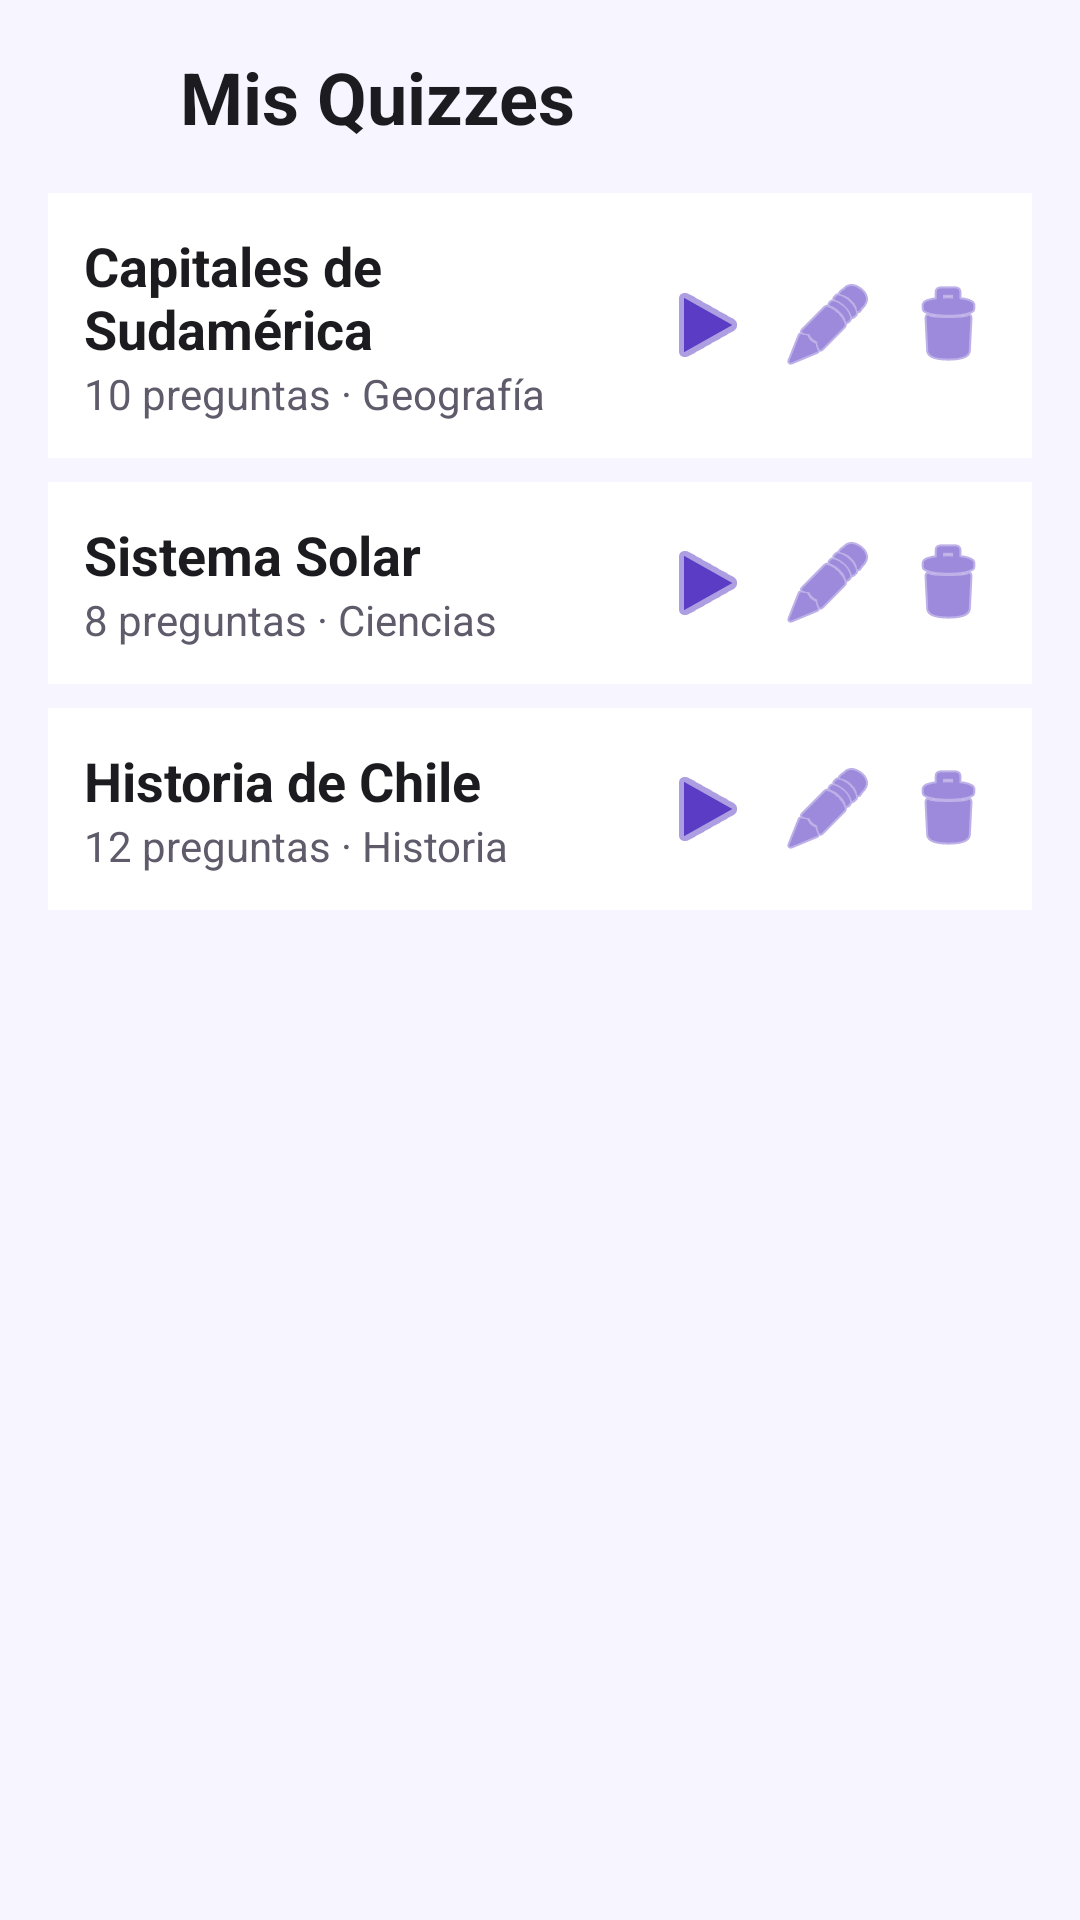

Where icons sit on this 1080px×1920px app screen, as (x1, y1, x2, y2):
Editar quiz: (787, 284, 868, 365), (787, 542, 868, 623), (787, 768, 868, 849)
Eliminar quiz: (921, 286, 976, 361), (921, 544, 976, 619), (921, 770, 976, 845)
Jugar quiz: (679, 293, 737, 357), (679, 551, 737, 615), (679, 777, 737, 841)
